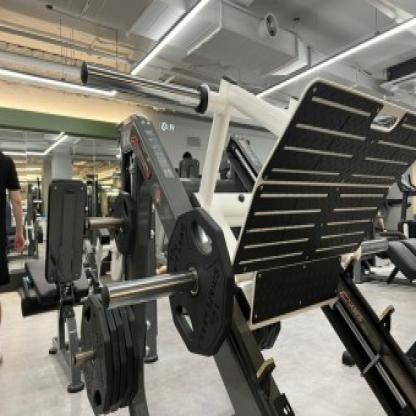leg press: (40, 46, 415, 416)
